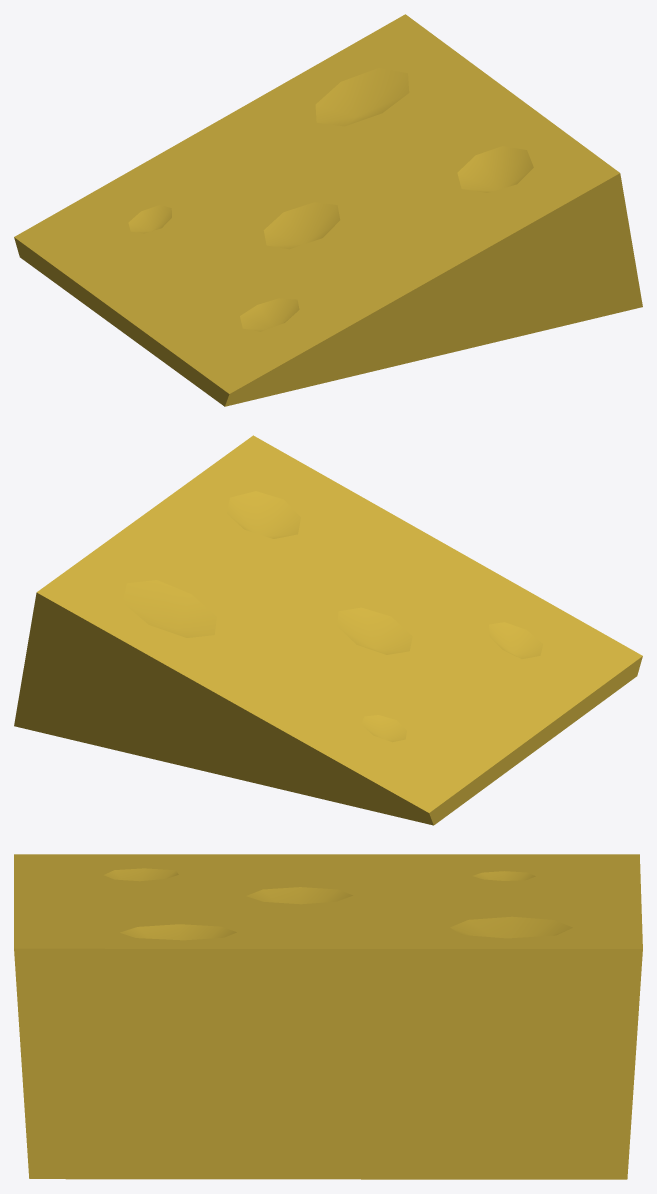
The model's file is Cheese.fbx.
3 views of the same model, one above another, from view 1: azimuth 30°, elevation 25°; view 2: azimuth 150°, elevation 25°; view 3: azimuth 270°, elevation 25° (orthographic). The views are drawn at different scales.
Parts seen in each view (by area): view 1: Cube; view 2: Cube; view 3: Cube.
Boxes of the visible parts, x1,y1,x2,y2 form: Cube: (14, 14, 642, 406); Cube: (14, 435, 642, 825); Cube: (14, 854, 642, 1179).
Bounding box in the file's own units: 11.54 × 3.8 × 10.27.
